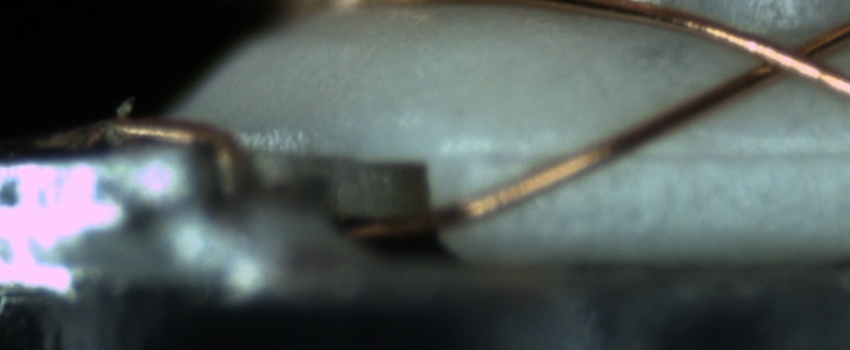CL: (726, 23, 840, 89)
DL: (460, 125, 840, 191)
TE: (59, 99, 256, 209)
